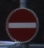No entry: (5, 6, 39, 43)
